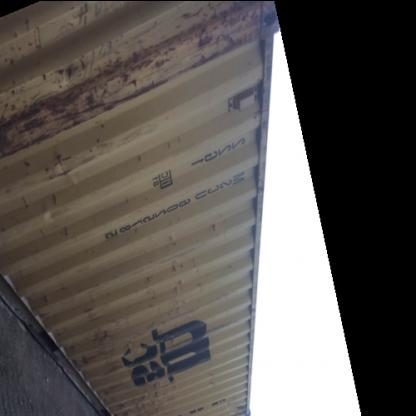Damage: (12, 1, 270, 135), (74, 304, 128, 378), (36, 148, 99, 188), (166, 226, 190, 314)
